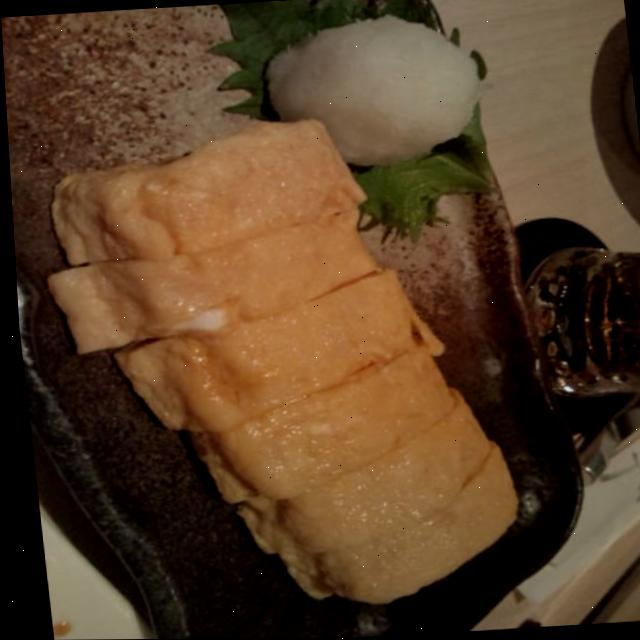鸡蛋料理: (39, 109, 533, 619)
